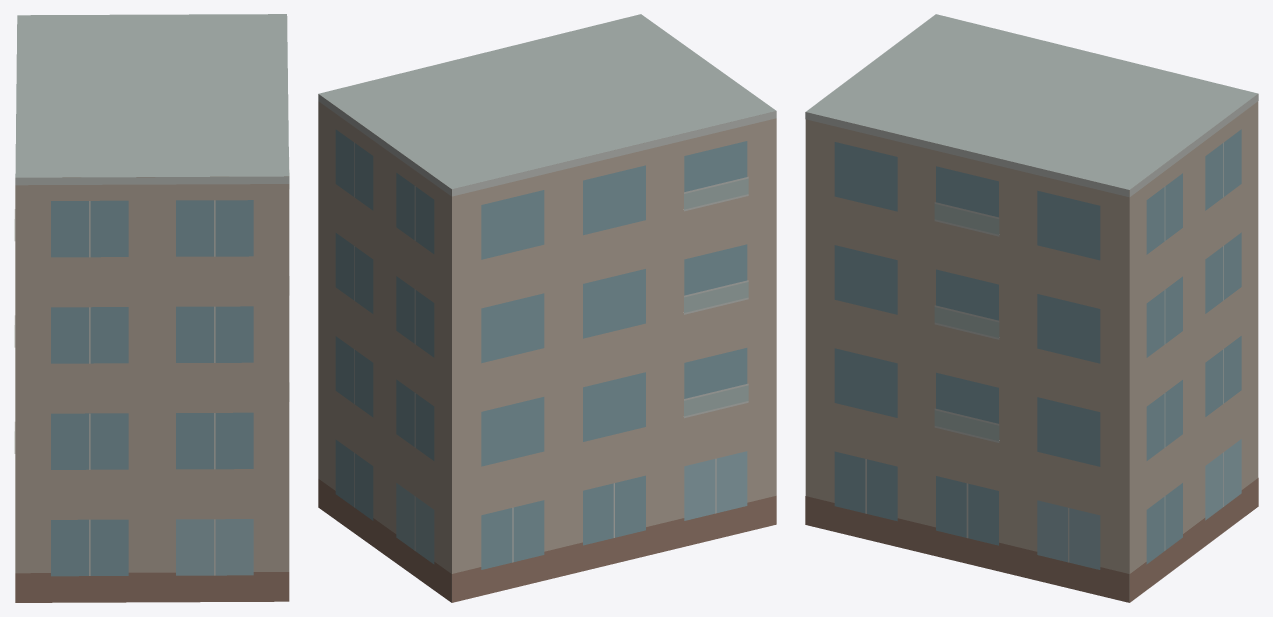
The model's file is survey-upis-32672831.glb.
3 renders of one model, left to right at view 1: azimuth 30°, elevation 25°; view 2: azimuth 150°, elevation 25°; view 3: azimuth 270°, elevation 25°, orthographic. The views are drawn at different scales.
Visible parts, largest first — view 1: survey-upis-32672831.tmp; view 2: survey-upis-32672831.tmp; view 3: survey-upis-32672831.tmp.
Part boxes in pixels (<box>): survey-upis-32672831.tmp: <box>14,14,289,602</box>; survey-upis-32672831.tmp: <box>318,14,776,602</box>; survey-upis-32672831.tmp: <box>805,14,1258,602</box>.
Size of the model in its own units: 12.57 by 13.74 by 13.67.
